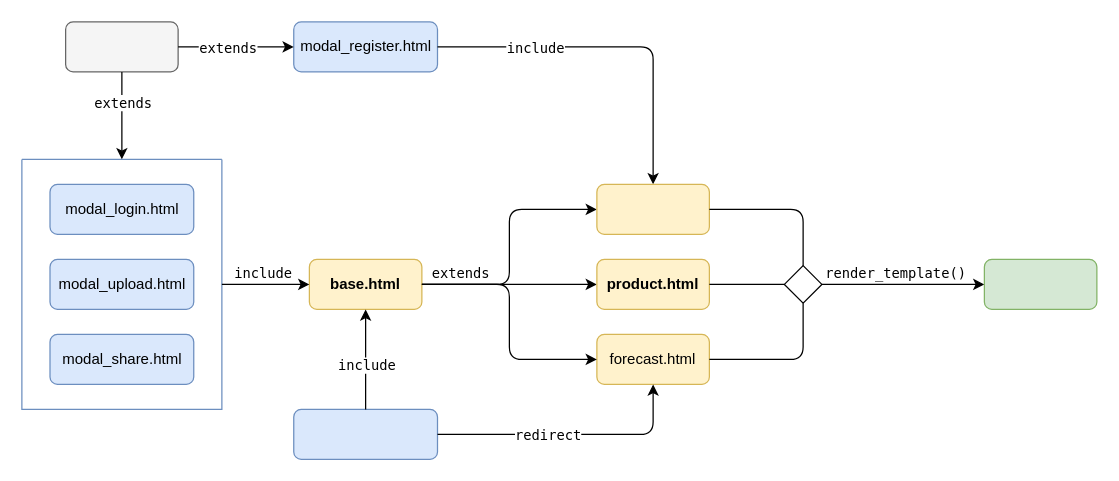
Image size: 1119x481. Some labels were removed from this diagram. The centre of each missing label's shape, as x and y in pixels:
"Browser" goes at (1040,283).
"index.html" goes at (652,208).
"modal.html" goes at (121,46).
"notification.html" goes at (365,433).
